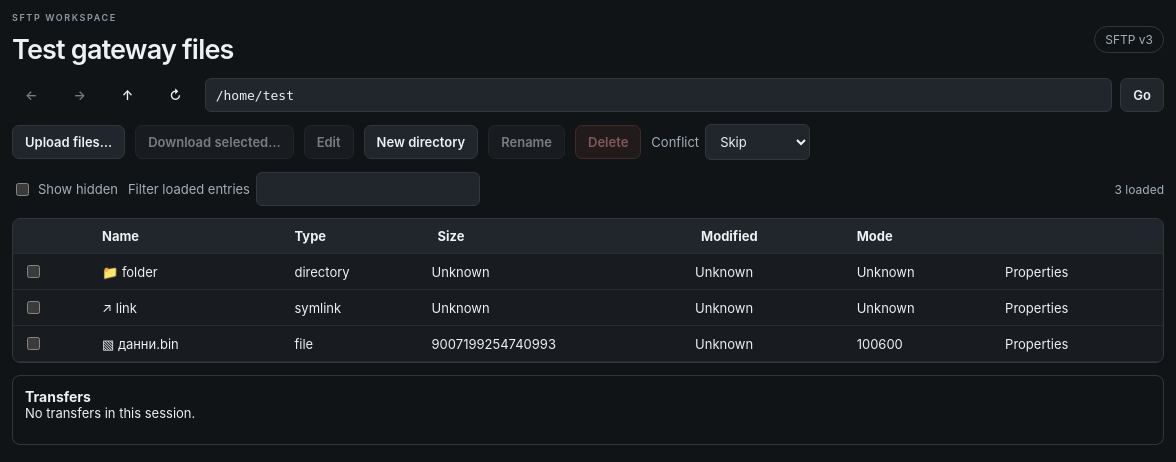
Test case: Files workspace boundaries › enables Edit only for one selected regular file
The width and height of the screenshot is (1176, 462).
Expected: the button "Edit" is disabled, left=304, top=125, right=354, bottom=159
Click the checkbox named "Select folder" at [34, 272], box left=27, top=265, right=40, bottom=278
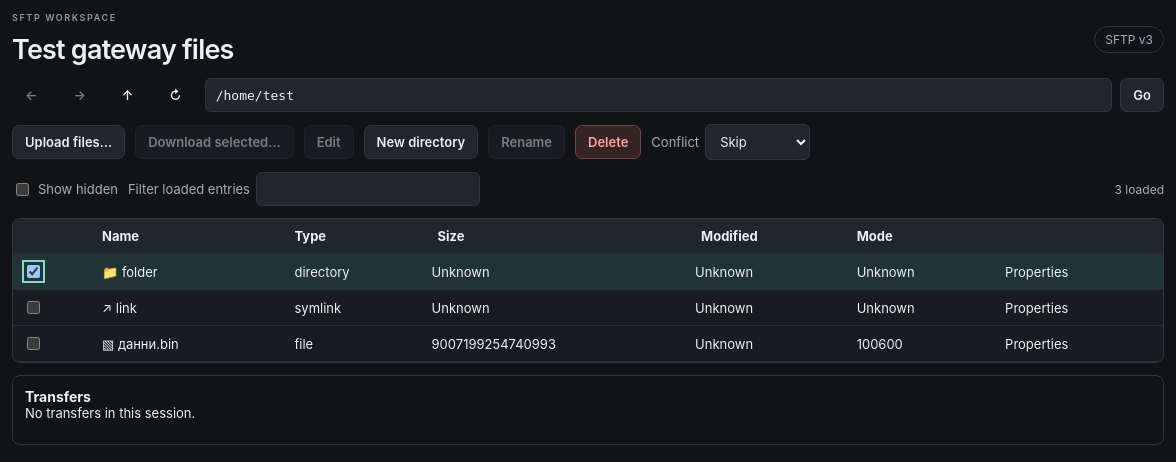
Expected: the button "Edit" is disabled, left=304, top=125, right=354, bottom=159
Click the checkbox named "Select folder" at [34, 272], box left=27, top=265, right=40, bottom=278
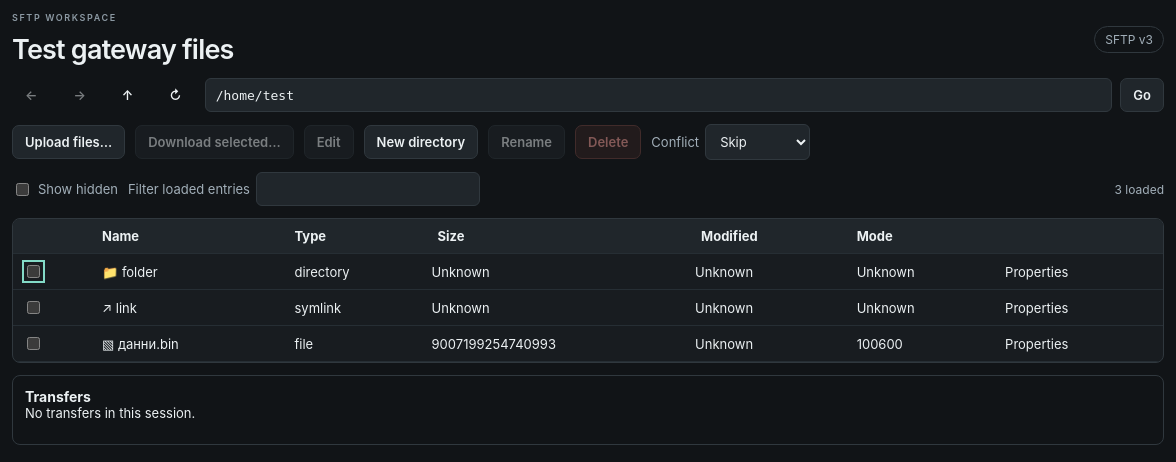
Click the checkbox named "Select link" at [34, 308], box left=27, top=301, right=40, bottom=314
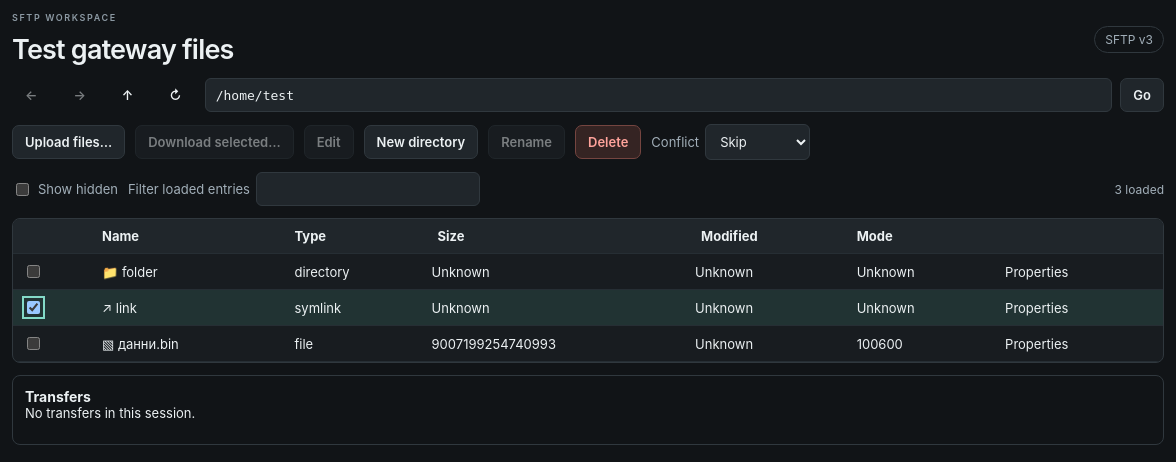
Expected: the button "Edit" is disabled, left=304, top=125, right=354, bottom=159
Click the checkbox named "Select link" at [34, 308], box left=27, top=301, right=40, bottom=314
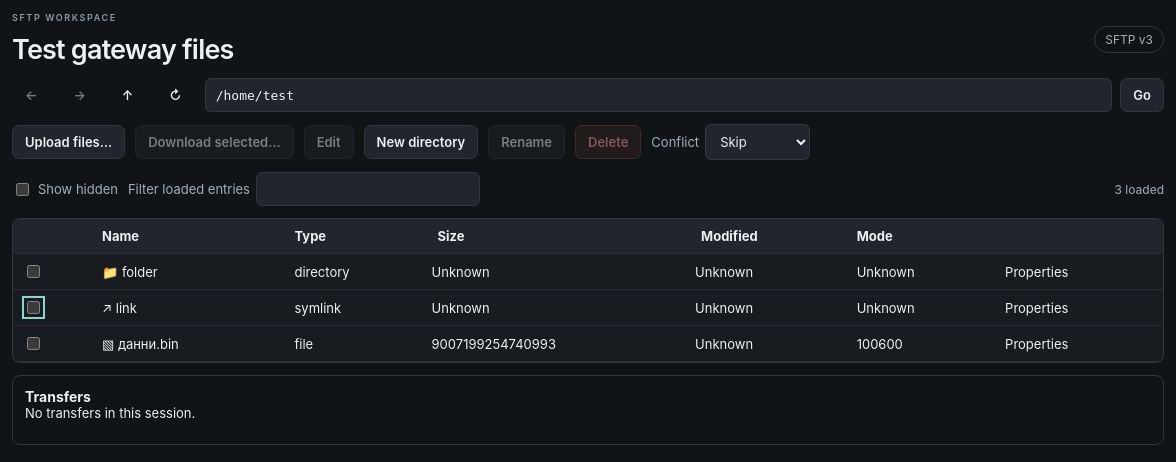
Click the checkbox named "Select данни.bin" at [34, 344], box left=27, top=337, right=40, bottom=350
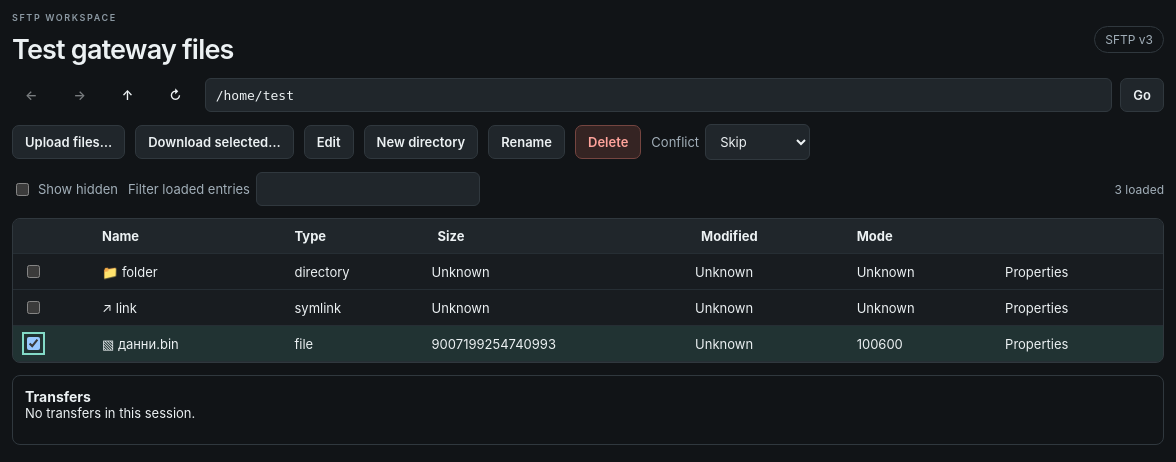
Expected: the button "Edit" is enabled, left=304, top=125, right=354, bottom=159
Click the checkbox named "Select folder" at [34, 272], box left=27, top=265, right=40, bottom=278
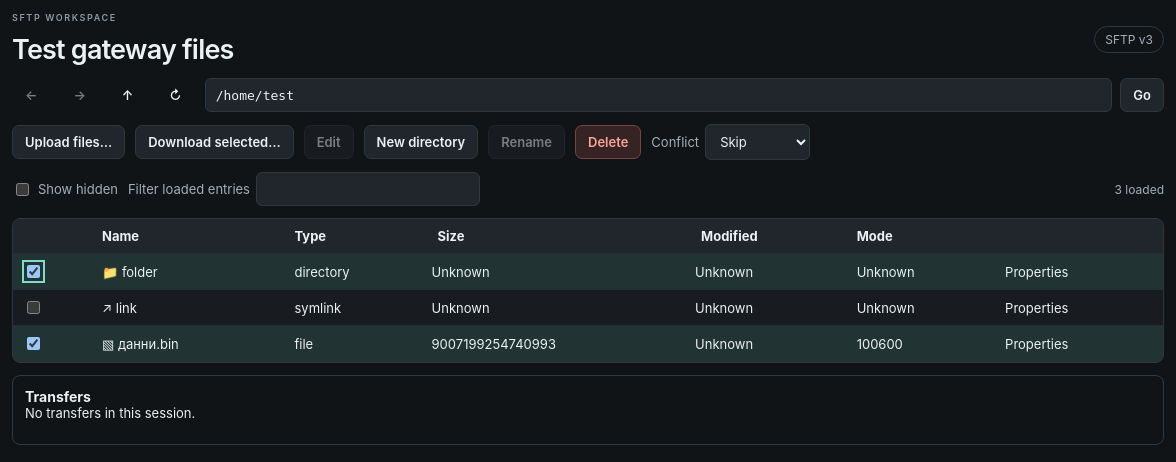
Expected: the button "Edit" is disabled, left=304, top=125, right=354, bottom=159
